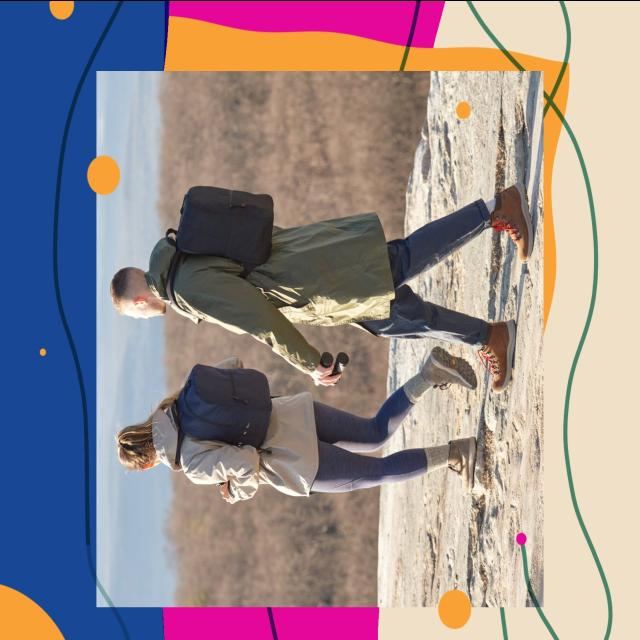backpack: (165, 185, 275, 319), (173, 362, 274, 469)
